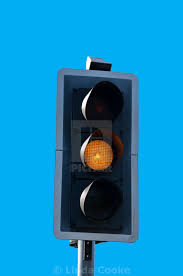amber: (50, 64, 141, 247), (59, 73, 135, 237), (71, 82, 126, 230), (79, 88, 121, 221)
